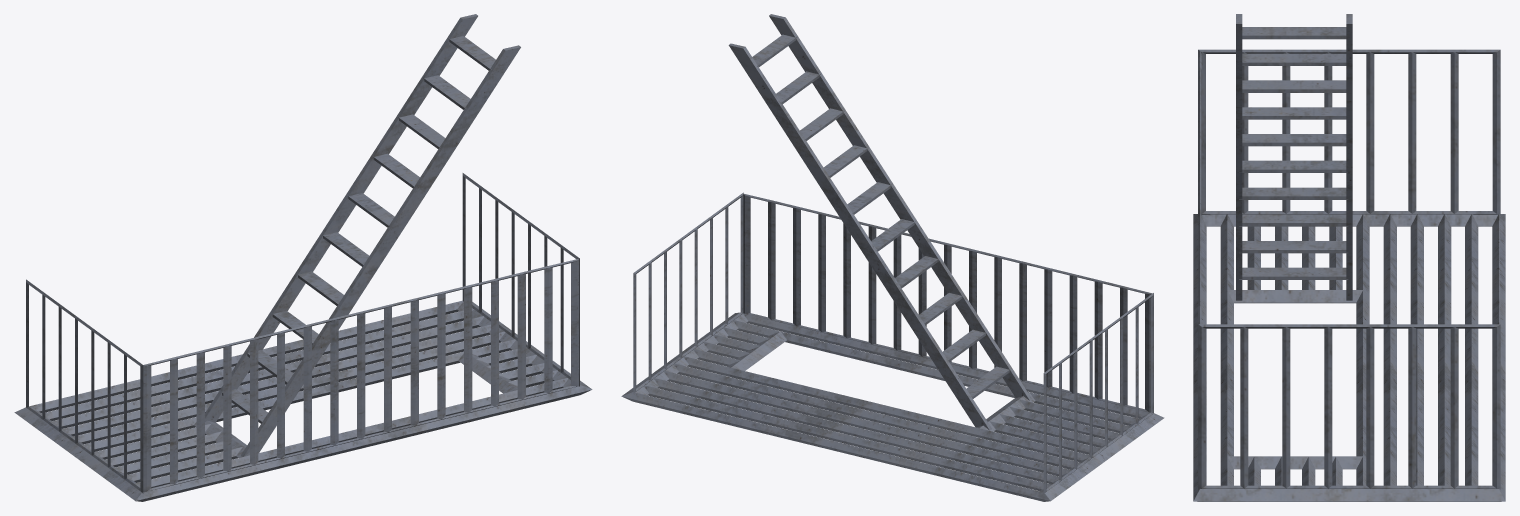
The model's file is FireEscape_Repeat_Model.fbx.
The picture shows the model from 3 angles, left to right: view 1: azimuth 30°, elevation 25°; view 2: azimuth 150°, elevation 25°; view 3: azimuth 270°, elevation 25°; orthographic projection. The views are drawn at different scales.
Parts seen in each view (by area): view 1: FireEscape_Repeat; view 2: FireEscape_Repeat; view 3: FireEscape_Repeat.
Part boxes in pixels (<box>): FireEscape_Repeat: <box>14,14,592,501</box>; FireEscape_Repeat: <box>621,14,1164,501</box>; FireEscape_Repeat: <box>1193,14,1505,501</box>.
Bounding box in the file's own units: 11.83 × 8.63 × 5.43.
Materials: 1 (1 with a texture image).
